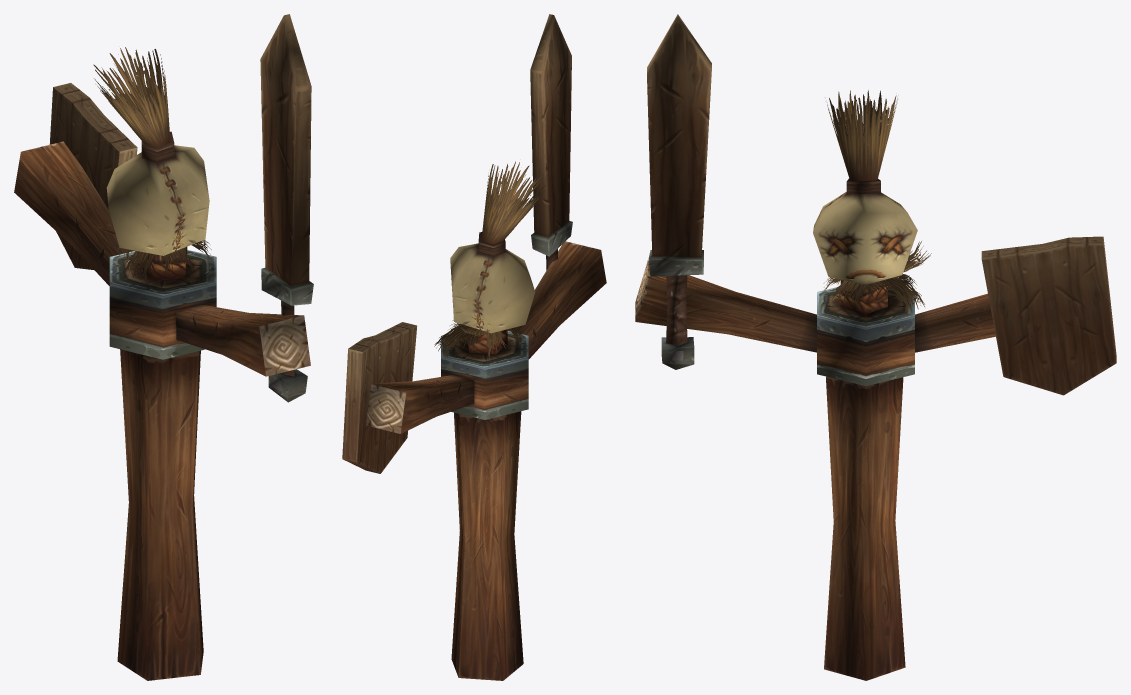
The model's file is dummy.obj.
3 views of the same model, side by side, from view 1: azimuth 30°, elevation 25°; view 2: azimuth 150°, elevation 25°; view 3: azimuth 270°, elevation 25° (orthographic). The views are drawn at different scales.
Parts seen in each view (by area): view 1: creature/object/woodendummy.m2_Geoset_000; view 2: creature/object/woodendummy.m2_Geoset_000; view 3: creature/object/woodendummy.m2_Geoset_000.
Part boxes in pixels (x1,y1,x2,y2): creature/object/woodendummy.m2_Geoset_000: [14, 14, 313, 680]; creature/object/woodendummy.m2_Geoset_000: [342, 14, 606, 680]; creature/object/woodendummy.m2_Geoset_000: [635, 14, 1116, 680].
Size of the model in its own units: 0.5523 by 2.91 by 1.93.
1 material, 1 textured.
